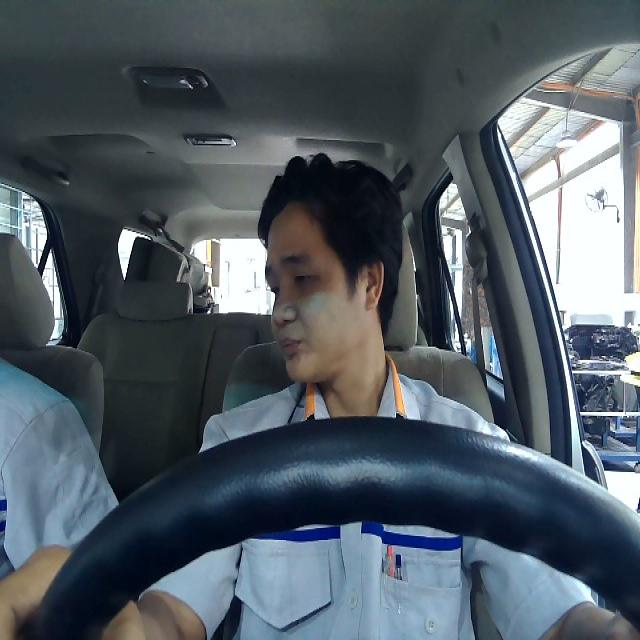seeing_left: (262, 200, 385, 384)
